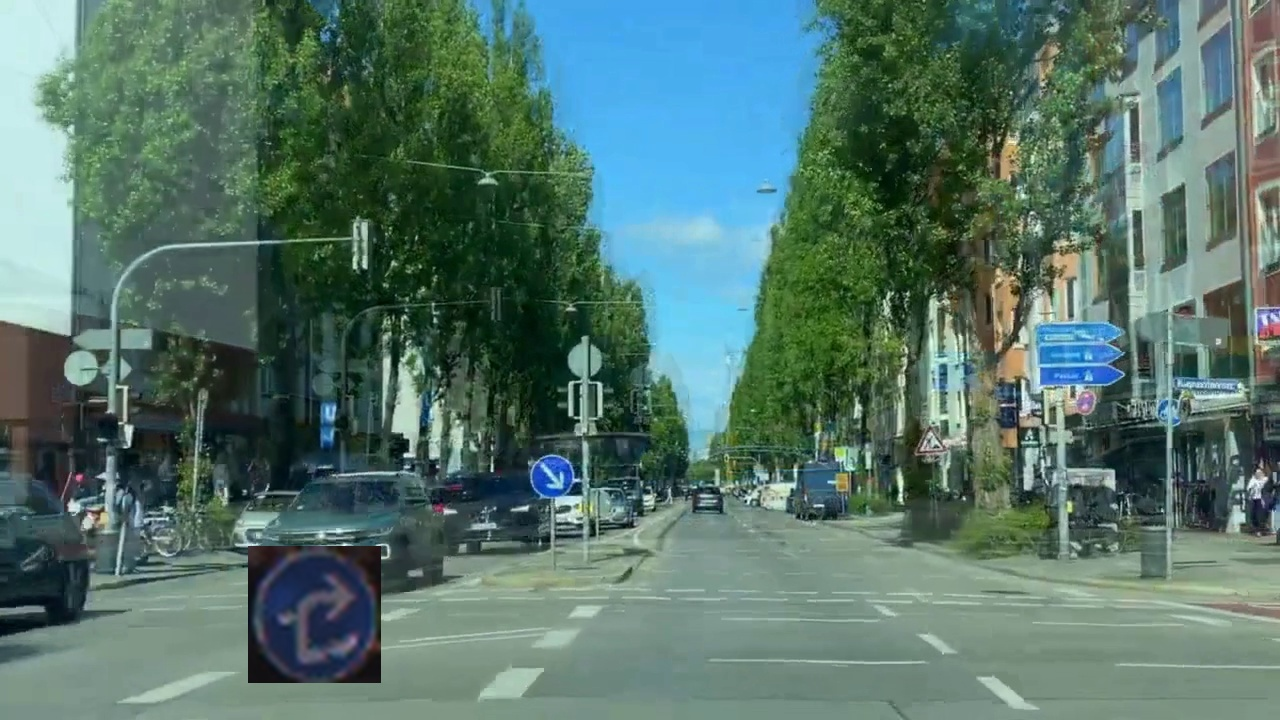Turn right: (248, 546, 381, 683)
